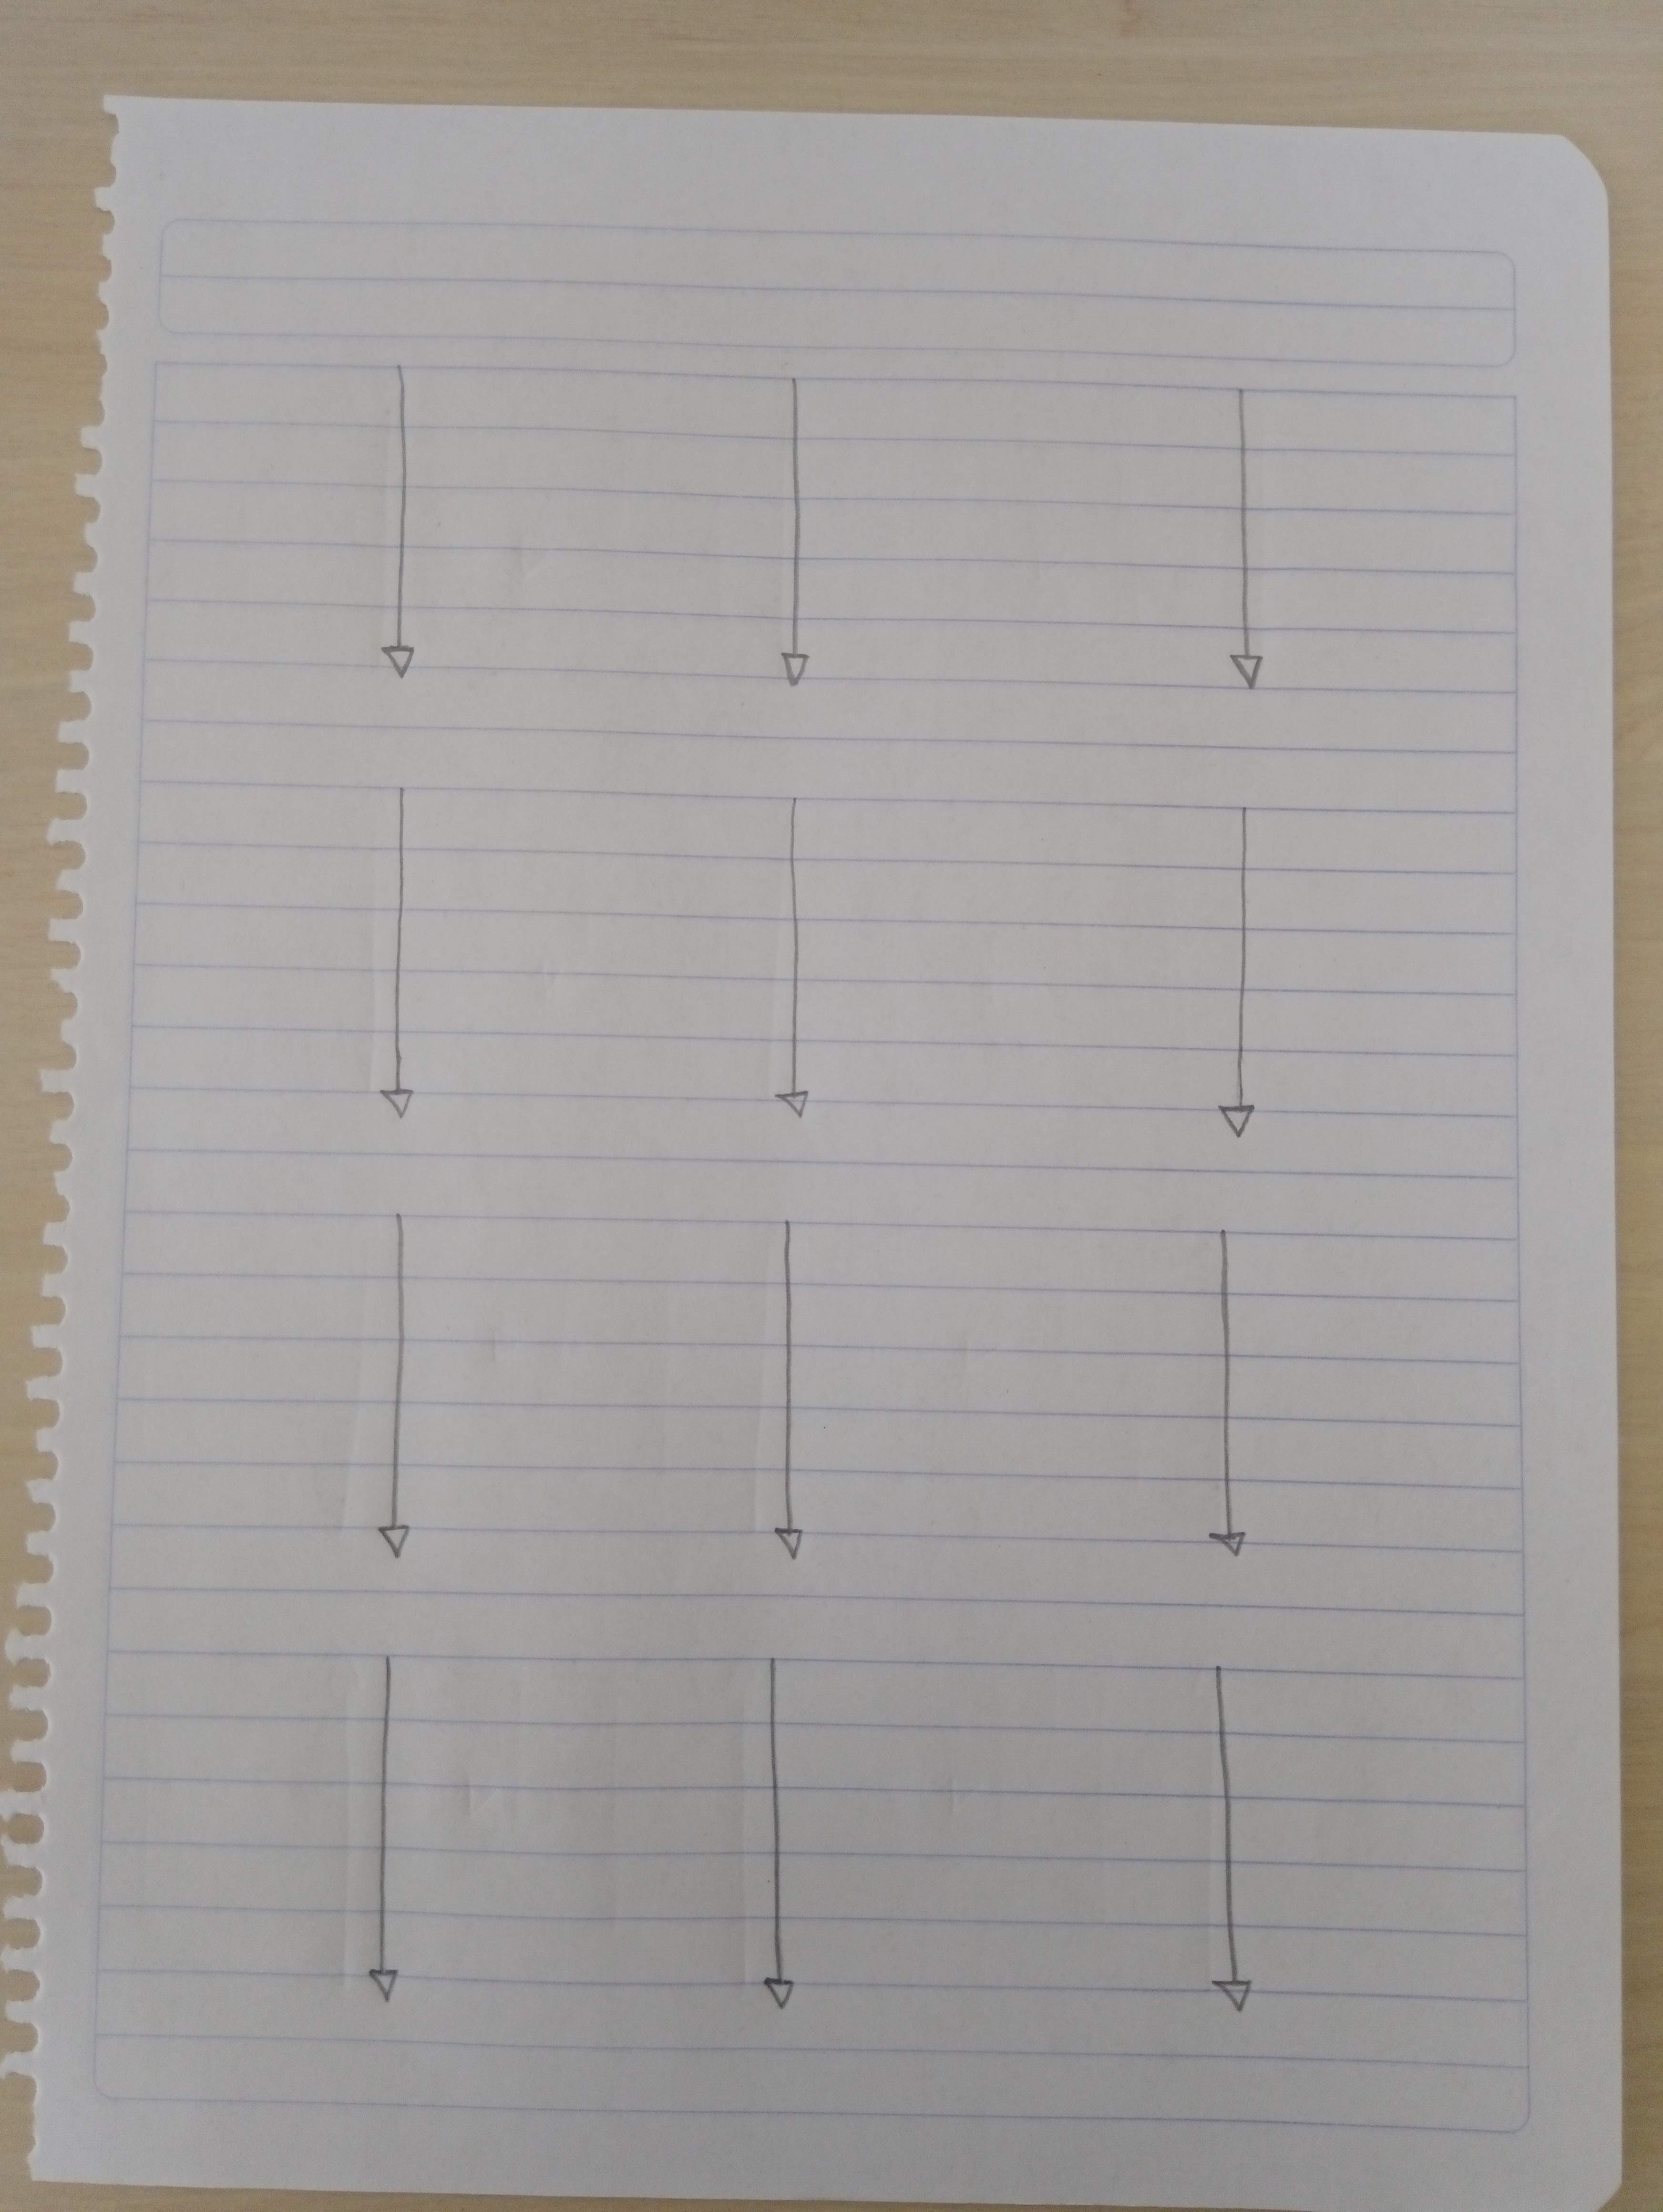arrow_line_down: (339, 354, 451, 695), (741, 1219, 837, 1583), (1197, 1212, 1280, 1585), (1200, 372, 1291, 695), (1193, 1660, 1270, 2027), (356, 791, 440, 1124), (746, 1634, 814, 2044), (360, 1212, 440, 1557), (763, 798, 847, 1128), (353, 1648, 423, 2018), (1223, 812, 1287, 1161), (763, 368, 833, 688)
